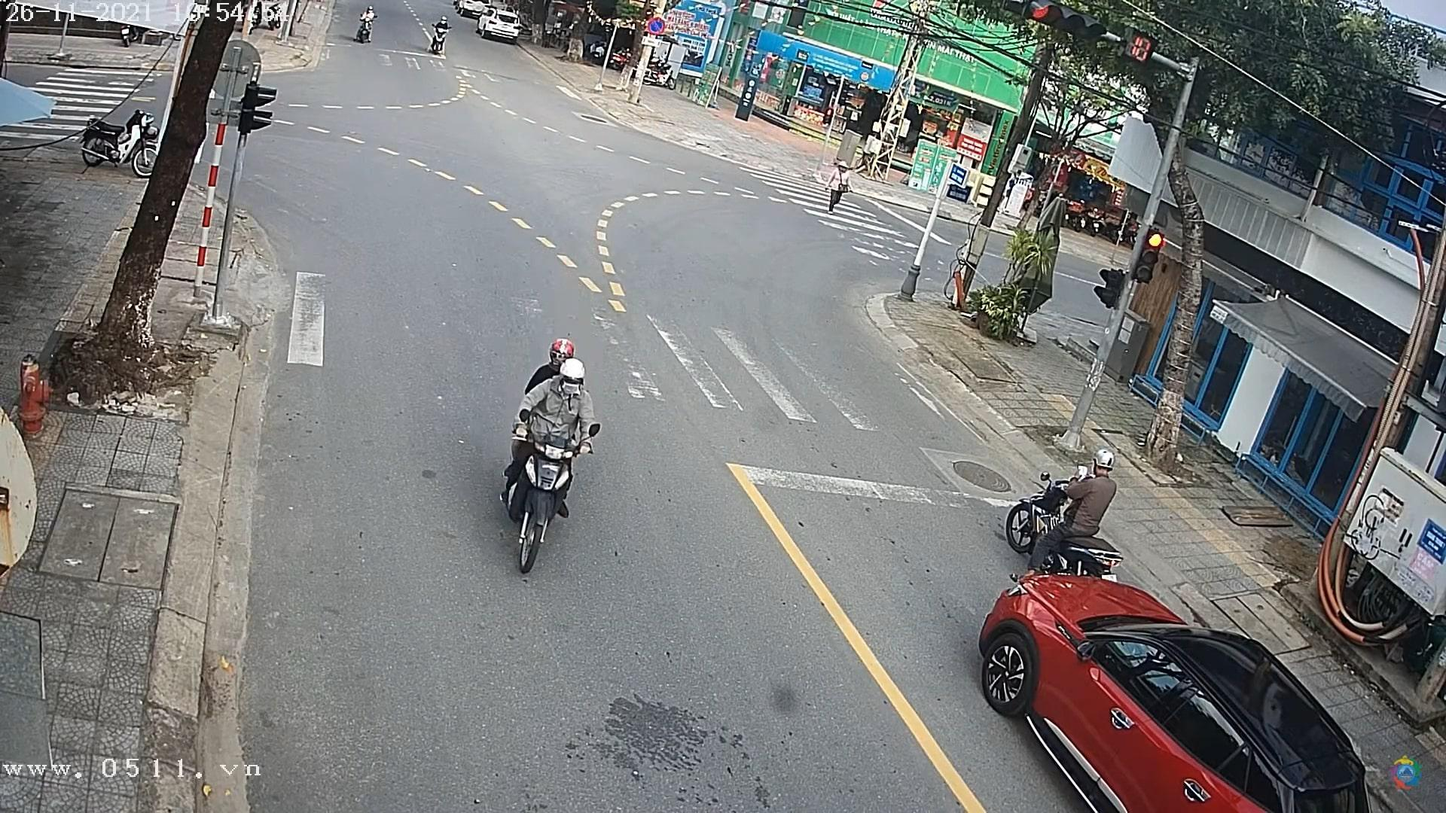motorbike: (498, 370, 608, 574)
